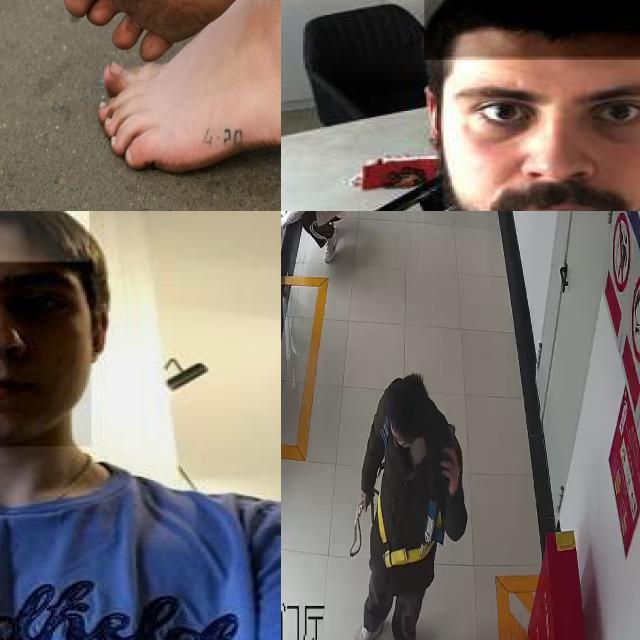Barefoots: (98, 46, 281, 174), (49, 0, 281, 61)
Harness: (376, 419, 444, 571)
No_Glasses: (437, 65, 640, 153), (0, 259, 85, 336)
face_nomask: (443, 56, 640, 211), (0, 260, 91, 446)
head_nohelmet: (424, 0, 640, 60), (0, 211, 89, 262)
person: (0, 211, 281, 640), (281, 0, 640, 211)
